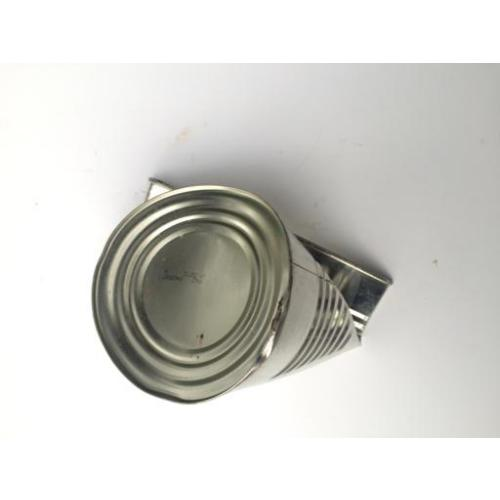metal: (89, 178, 392, 403)
